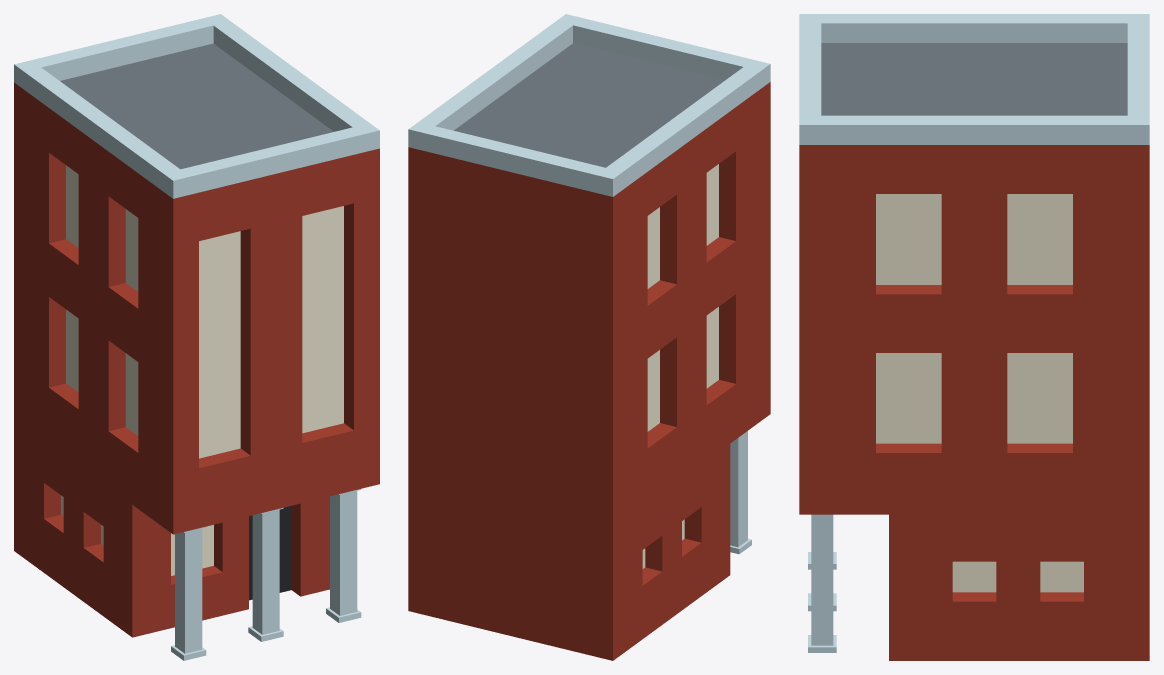
Rendered from Building_9 (Red).obj.
3 views of the same model, side by side, from view 1: azimuth 30°, elevation 25°; view 2: azimuth 150°, elevation 25°; view 3: azimuth 270°, elevation 25° (orthographic). The views are drawn at different scales.
Parts seen in each view (by area): view 1: Building_9_(Red); view 2: Building_9_(Red); view 3: Building_9_(Red).
Part boxes in pixels (left/top/right/bottom): Building_9_(Red): left=14, top=14, right=379, bottom=660; Building_9_(Red): left=408, top=14, right=770, bottom=660; Building_9_(Red): left=799, top=14, right=1149, bottom=660.
Bounding box in the file's own units: 1.2 × 2.7 × 1.6.
